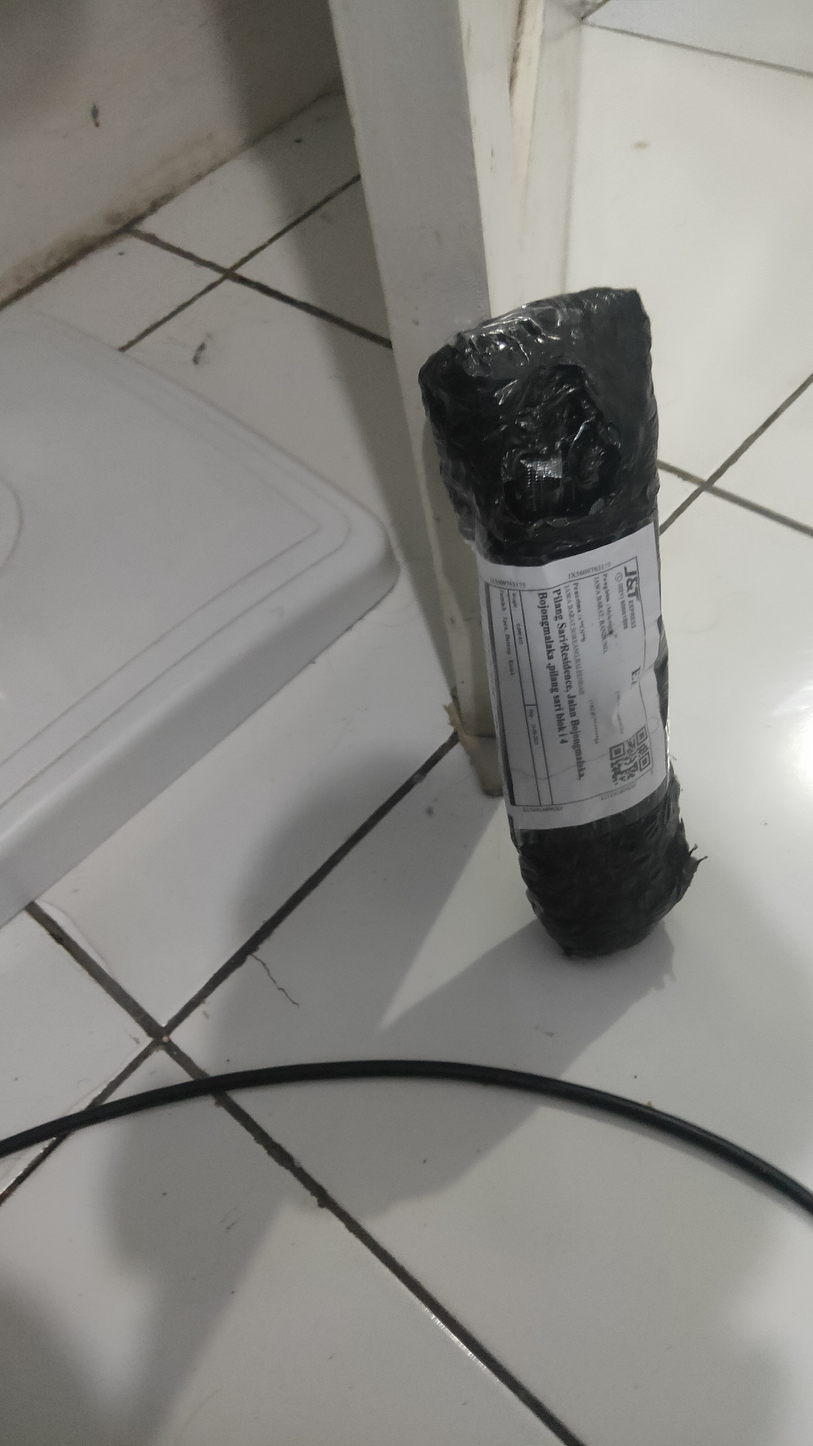damaged package: (499, 364, 632, 528)
undamaged: (416, 288, 697, 968)
